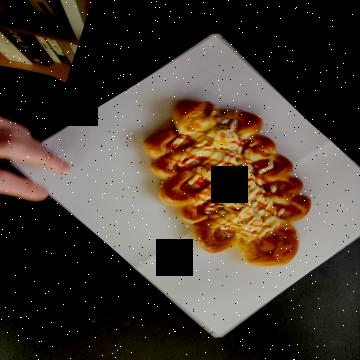pizza_bread: (114, 49, 279, 213)
